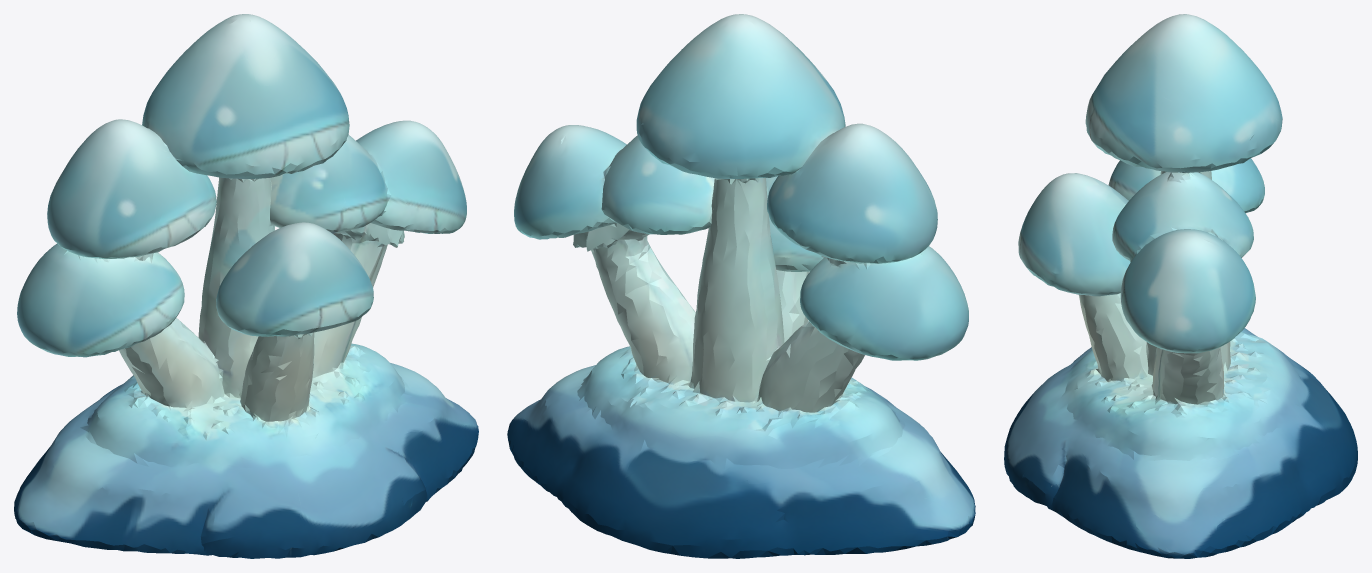
Rendered from Hollow_FrostShroom.glb.
The picture shows the model from 3 angles, left to right: view 1: azimuth 30°, elevation 25°; view 2: azimuth 150°, elevation 25°; view 3: azimuth 270°, elevation 25°; orthographic projection. The views are drawn at different scales.
Visible parts, largest first — view 1: Cave_FrostShroom; view 2: Cave_FrostShroom; view 3: Cave_FrostShroom.
Boxes of the visible parts, box(x1,y1,x2,y2) form: Cave_FrostShroom: box(14, 14, 478, 558); Cave_FrostShroom: box(507, 14, 975, 558); Cave_FrostShroom: box(1004, 14, 1357, 558).
Size of the model in its own units: 0.8966 by 0.9 by 0.6421.
1 material, 1 textured.
